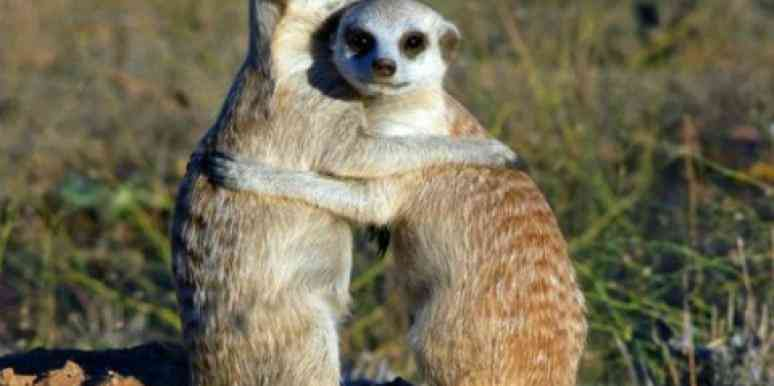meerkat: (325, 1, 592, 386)
